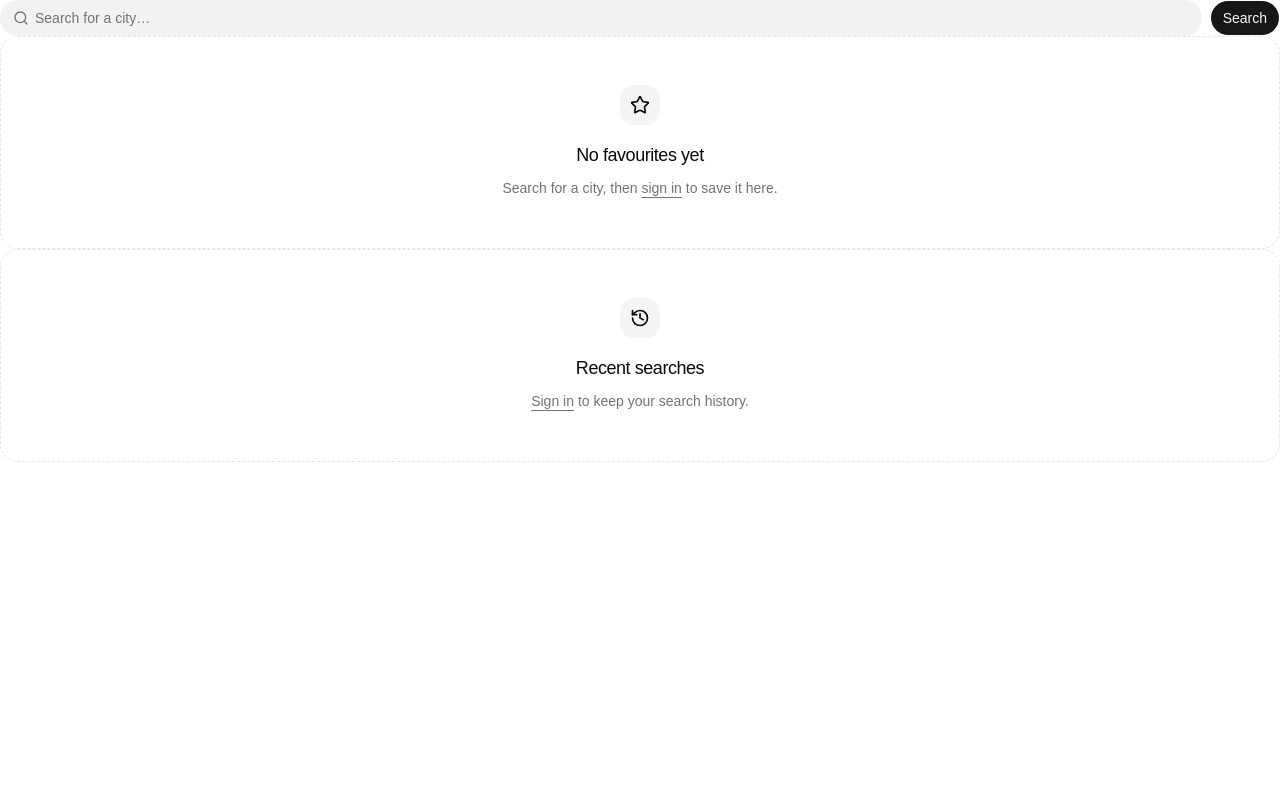
home page composition › signed out: the dialog offers Sign in to save instead of Add
This screenshot has width=1280, height=800.
Type "London" into the field labelled "city".
click(615, 18); type("London")  # box [29,0,1201,36]
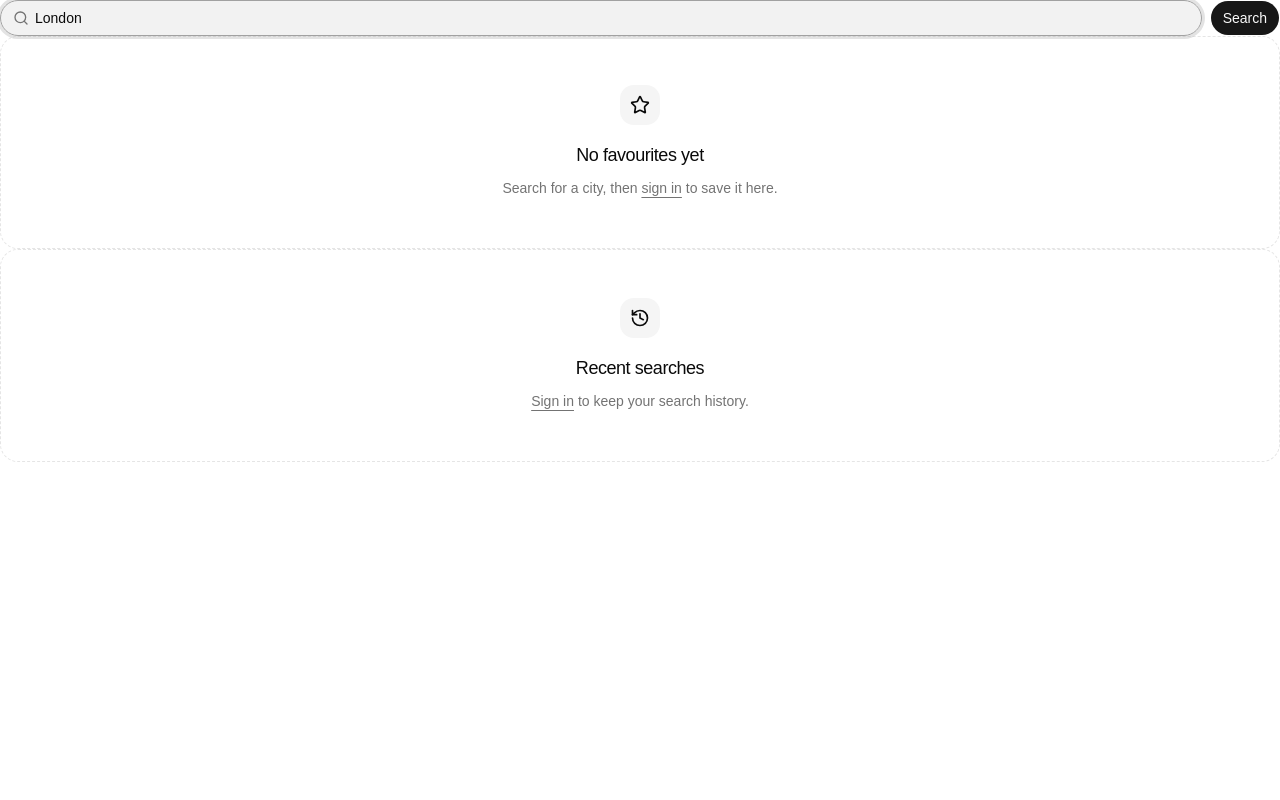
Click the button "Search".
click(1245, 18)  # box [1210,0,1279,36]
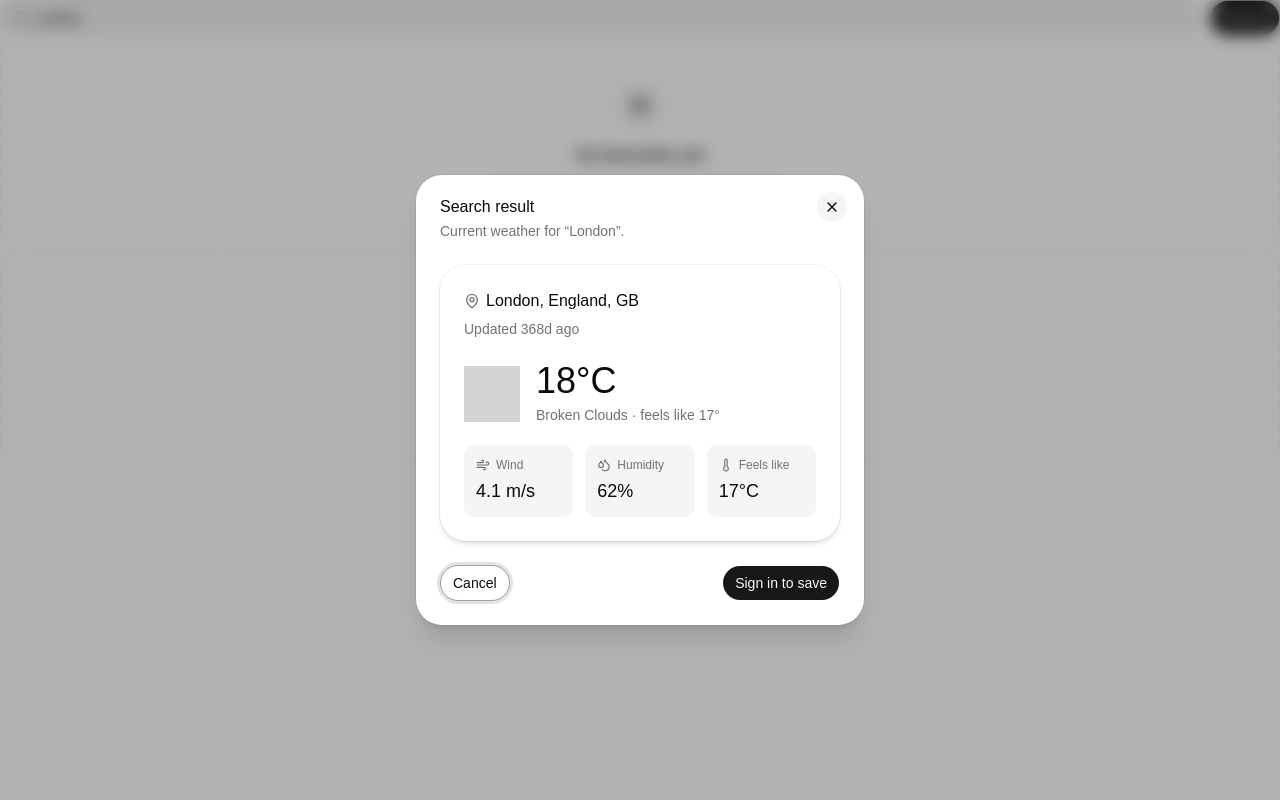
Expected: the element with test id "weather-card" is shown, [440,265,840,541]
Expected: the button "Sign in to save" is shown, [722,565,840,601]
